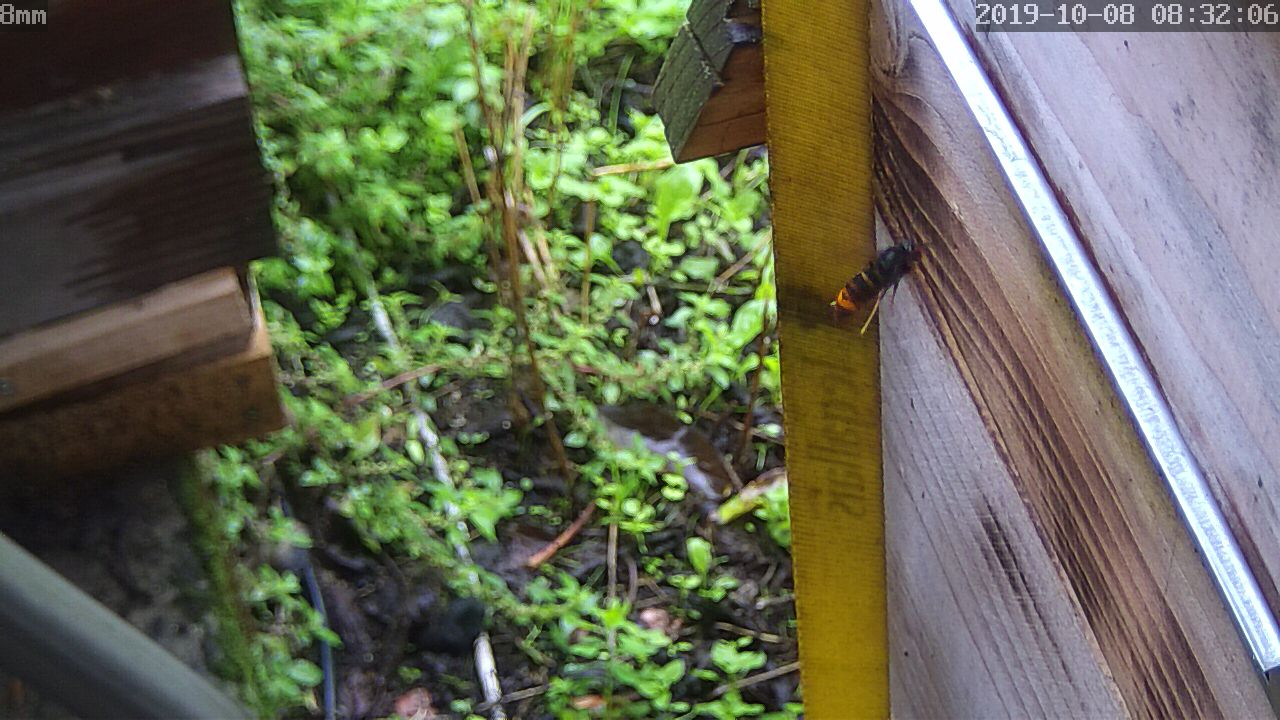hornet: (826, 221, 933, 332)
